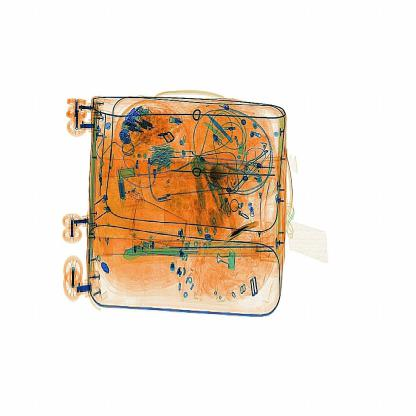wrench: (214, 217, 272, 246)
